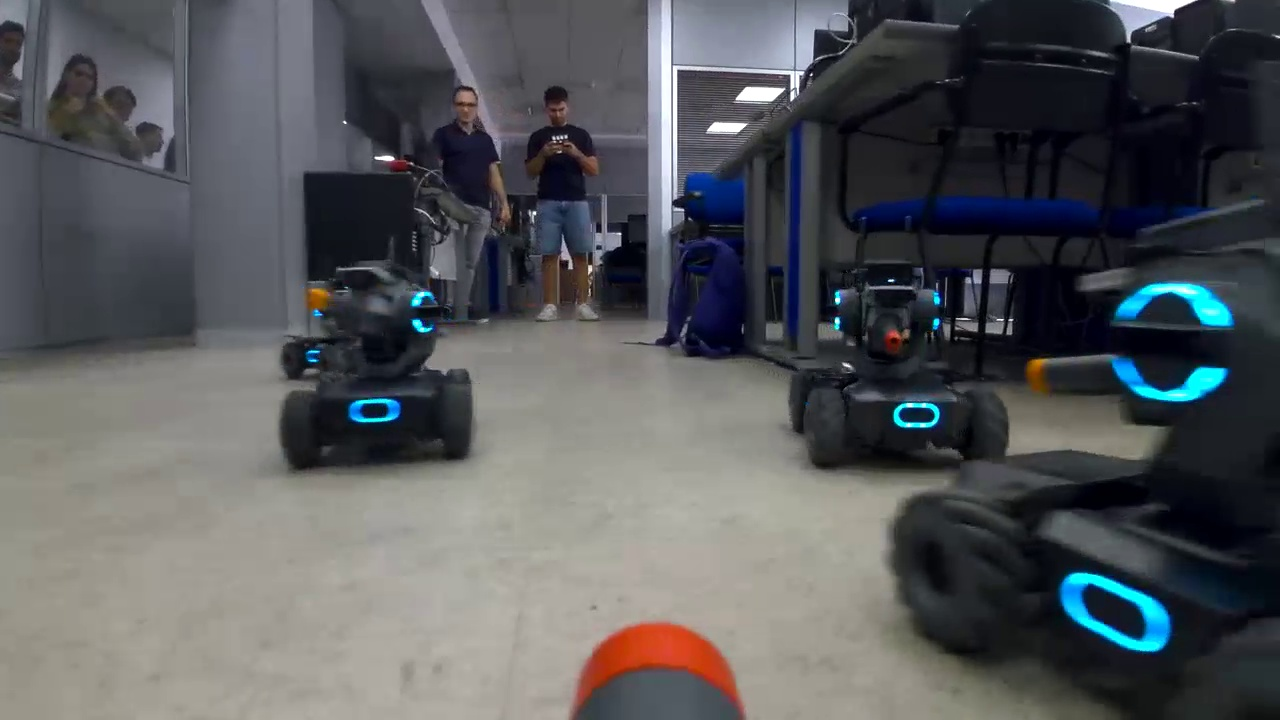robot: (886, 241, 1280, 720), (783, 272, 1016, 471), (278, 266, 479, 480), (277, 266, 363, 378)
